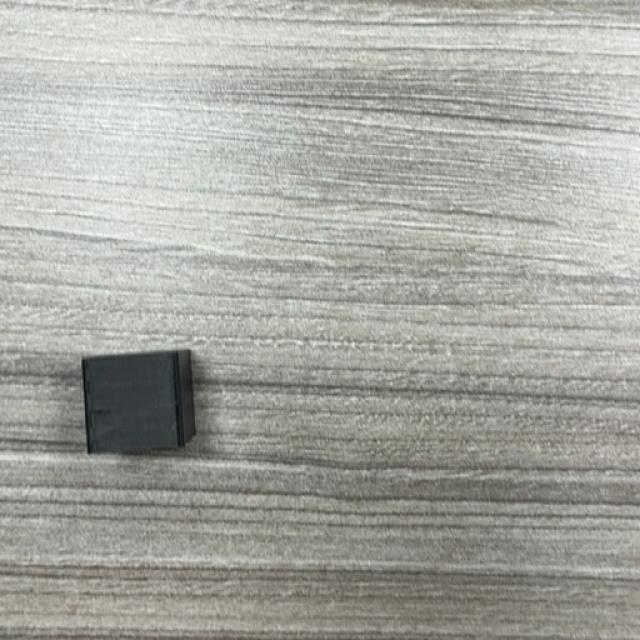Negro: (80, 350, 195, 456)
